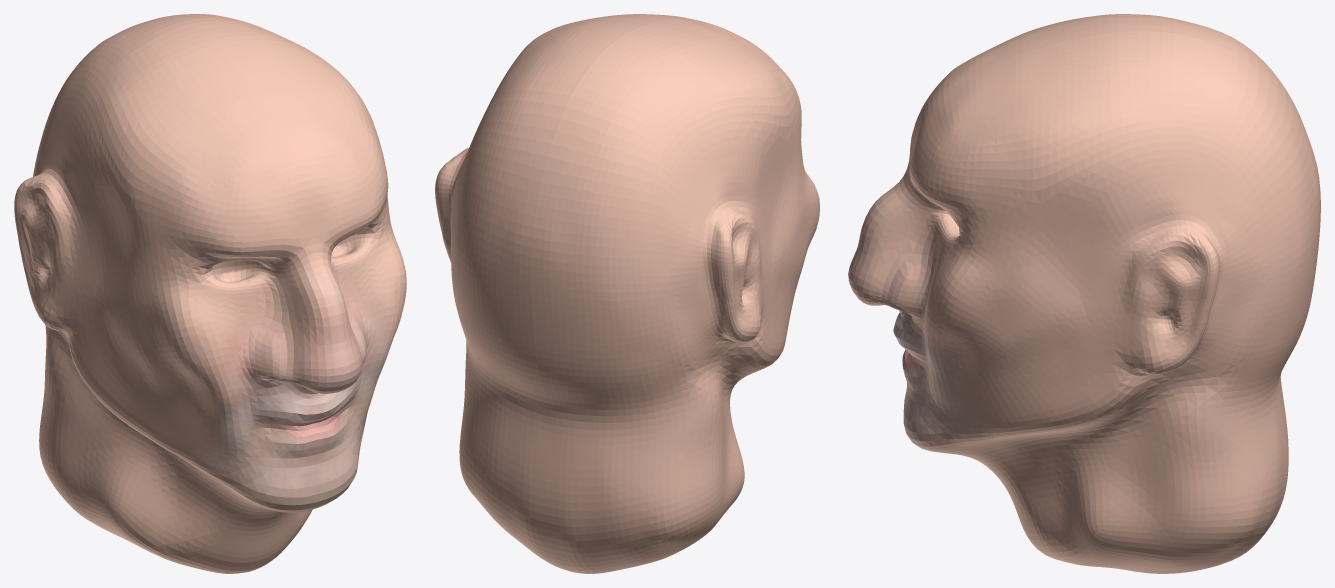
File: giantHead03.fbx
The picture shows the model from 3 angles, left to right: view 1: azimuth 30°, elevation 25°; view 2: azimuth 150°, elevation 25°; view 3: azimuth 270°, elevation 25°; orthographic projection. The views are drawn at different scales.
Visible parts, largest first — view 1: gianthead02:Group59087; view 2: gianthead02:Group59087; view 3: gianthead02:Group59087.
Boxes of the visible parts, box(x1,y1,x2,y2) form: gianthead02:Group59087: box(14, 14, 406, 573); gianthead02:Group59087: box(435, 14, 819, 573); gianthead02:Group59087: box(848, 14, 1320, 573).
Bounding box in the file's own units: 69.42 × 113 × 91.97.
1 material, 1 textured.
